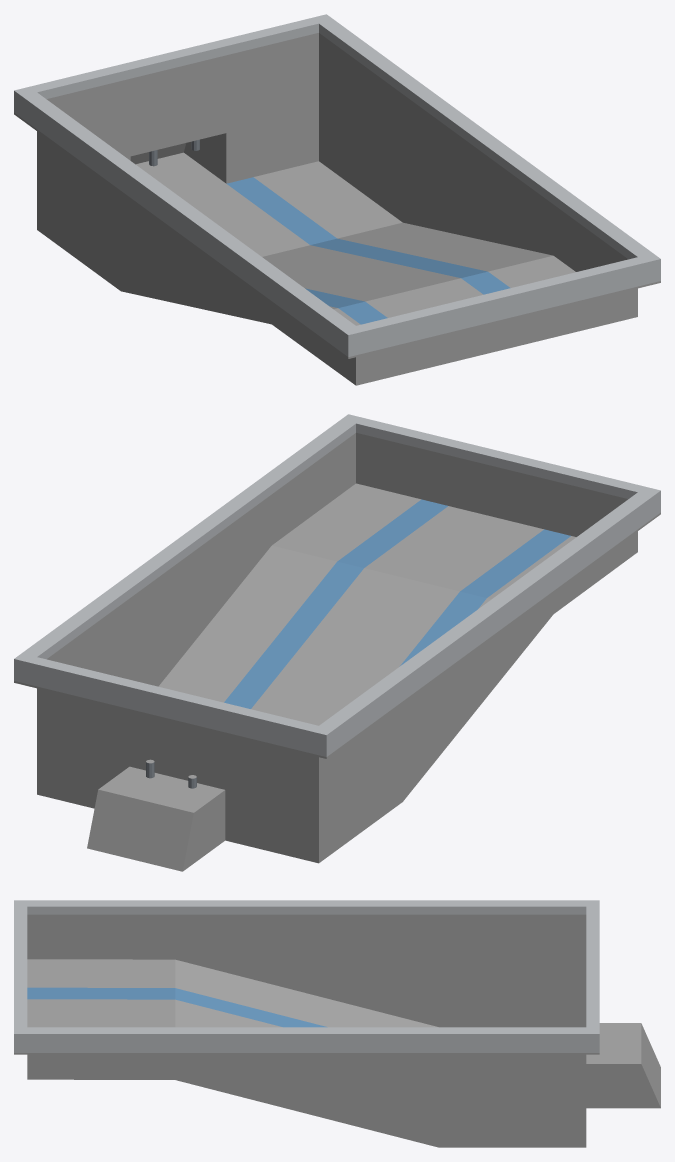
File: O_Enviroment_Pool_1.fbx
3 renders of one model, top to bottom at view 1: azimuth 30°, elevation 25°; view 2: azimuth 150°, elevation 25°; view 3: azimuth 270°, elevation 25°, orthographic. The views are drawn at different scales.
Visible parts, largest first — view 1: pPlane2; view 2: pPlane2; view 3: pPlane2.
Boxes of the visible parts, left/top/right/bottom form: pPlane2: left=14, top=14, right=660, bottom=385; pPlane2: left=14, top=414, right=660, bottom=871; pPlane2: left=14, top=900, right=660, bottom=1147.
Bounding box in the file's own units: 8.47 × 3.56 × 17.34.
